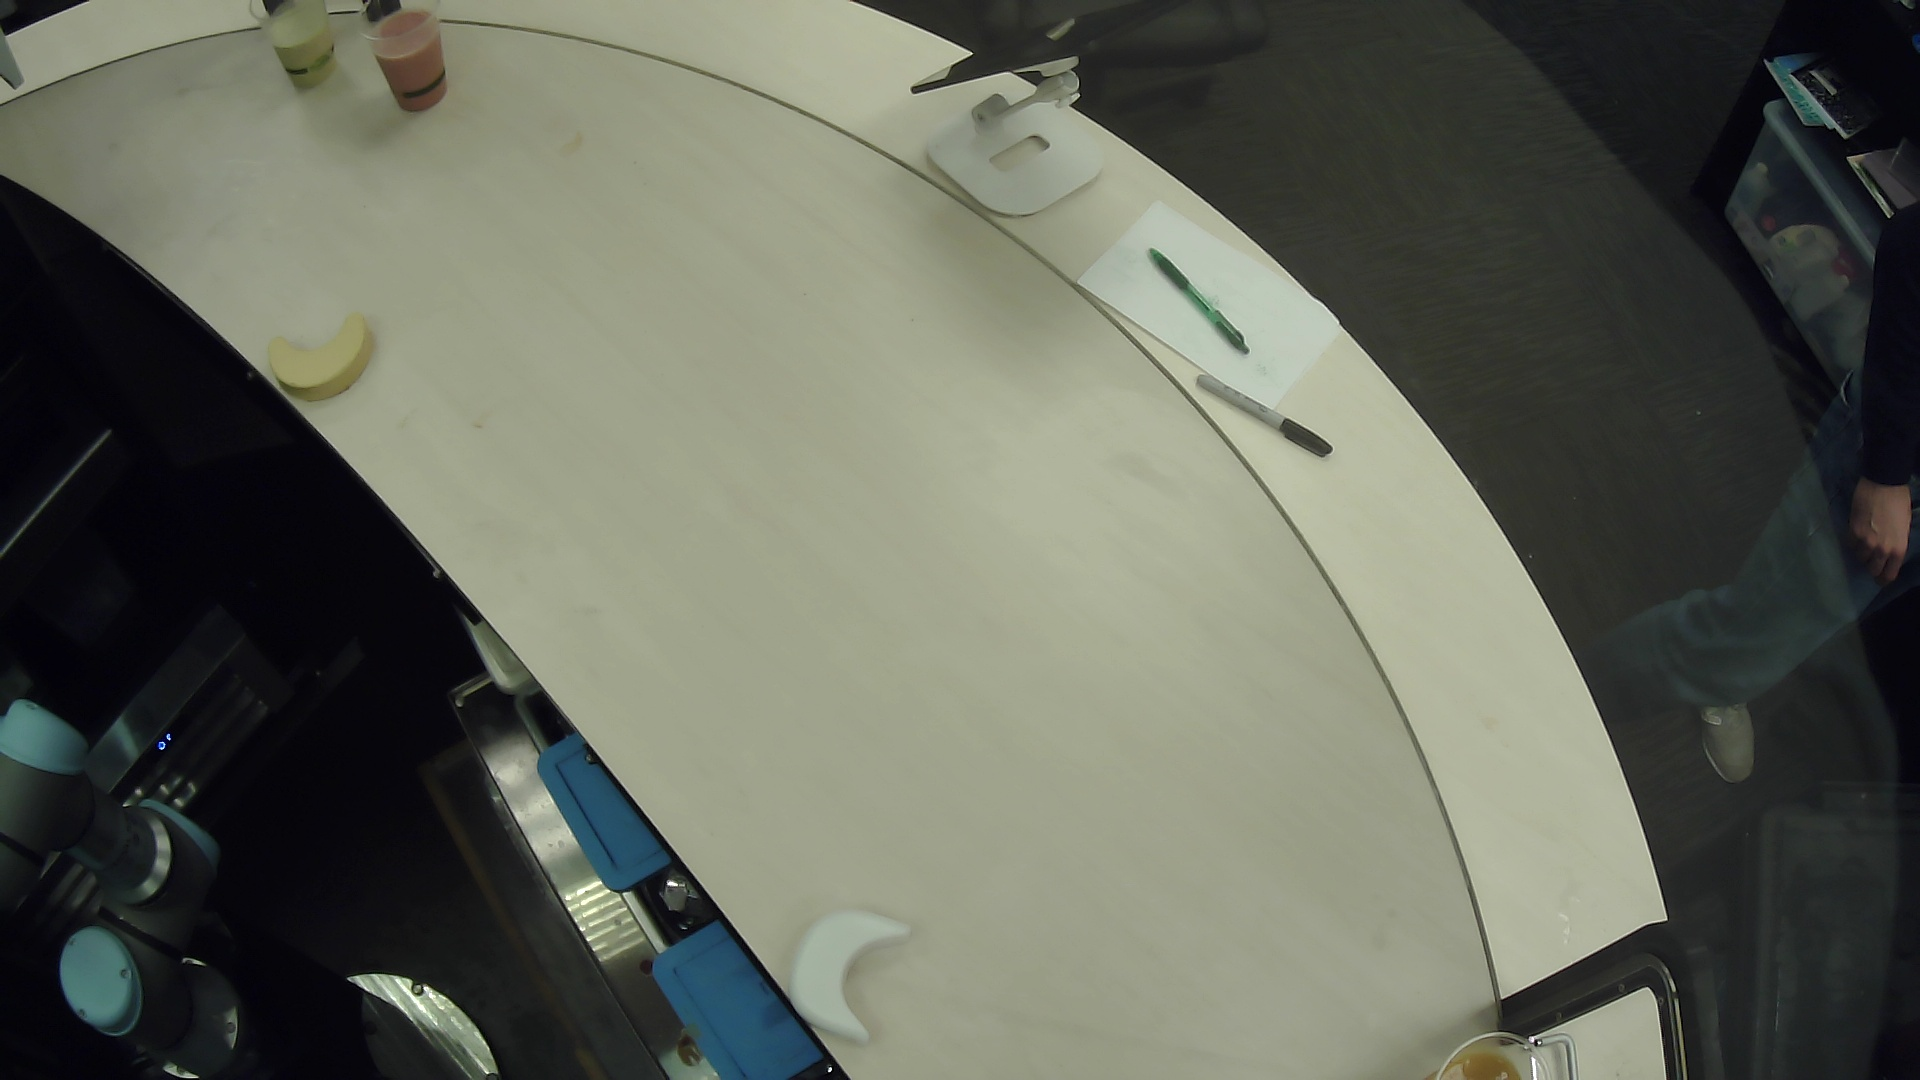Deliver: (771, 877, 956, 1048), (257, 299, 400, 415)
Full_cup: (351, 1, 463, 144), (1404, 998, 1597, 1080), (247, 1, 371, 107)
